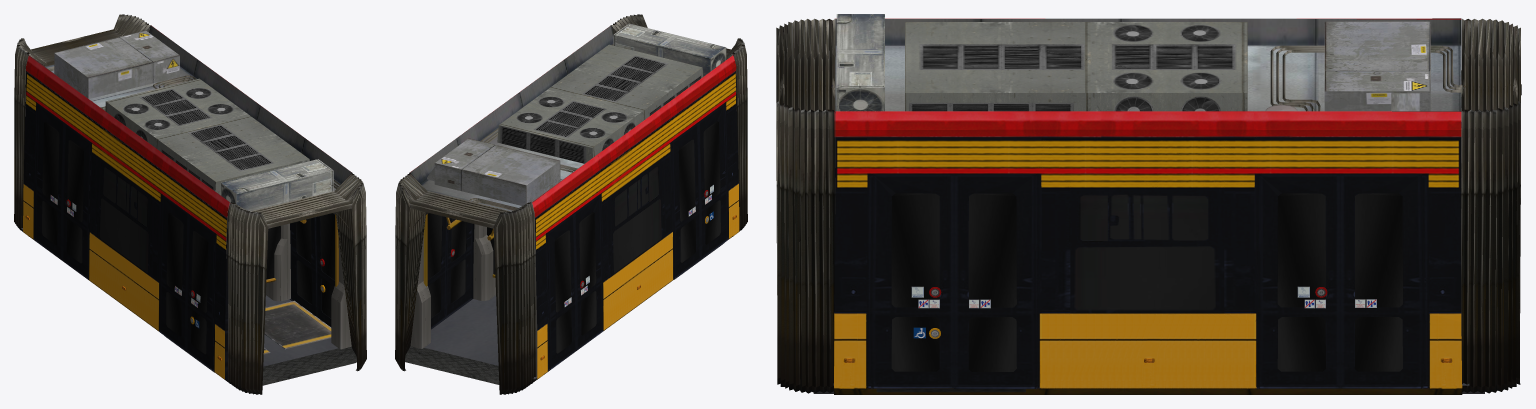
Rendered from jazz_m1.obj.
3 renders of one model, left to right at view 1: azimuth 30°, elevation 25°; view 2: azimuth 150°, elevation 25°; view 3: azimuth 270°, elevation 25°, orthographic. The views are drawn at different scales.
Parts seen in each view (by area): view 1: body, salon, d_rr, d_rl, okno, ds_rl, ds_rr, dl_lr, ds_ll, ds_lr, dl_ll, steklo; view 2: body, salon, d_rr, d_rl, okno, ds_rl, ds_rr, ds_lr, dl_ll, ds_ll, dl_lr; view 3: body, d_ll, d_lr, okno, ds_lr, ds_ll.
Boxes of the visible parts, x1=… form: body: x1=14, y1=14, x2=366, y2=394; salon: x1=21, y1=212, x2=356, y2=385; d_rr: x1=62, y1=123, x2=214, y2=370; d_rl: x1=35, y1=104, x2=188, y2=350; okno: x1=97, y1=157, x2=151, y2=275; ds_rl: x1=42, y1=122, x2=183, y2=336; ds_rr: x1=66, y1=140, x2=208, y2=354; dl_lr: x1=290, y1=217, x2=316, y2=316; ds_ll: x1=320, y1=213, x2=334, y2=318; ds_lr: x1=296, y1=218, x2=312, y2=304; dl_ll: x1=315, y1=216, x2=334, y2=327; steklo: x1=266, y1=226, x2=280, y2=279; body: x1=395, y1=14, x2=747, y2=394; salon: x1=405, y1=212, x2=537, y2=384; d_rr: x1=574, y1=103, x2=727, y2=350; d_rl: x1=548, y1=123, x2=700, y2=369; okno: x1=609, y1=158, x2=663, y2=276; ds_rl: x1=554, y1=139, x2=695, y2=353; ds_rr: x1=579, y1=121, x2=720, y2=335; ds_lr: x1=427, y1=213, x2=442, y2=317; dl_ll: x1=445, y1=218, x2=472, y2=316; ds_ll: x1=450, y1=218, x2=466, y2=303; dl_lr: x1=427, y1=216, x2=447, y2=327; body: x1=776, y1=14, x2=1520, y2=394; d_ll: x1=869, y1=174, x2=1340, y2=388; d_lr: x1=953, y1=174, x2=1425, y2=388; okno: x1=1070, y1=189, x2=1224, y2=312; ds_lr: x1=968, y1=193, x2=1402, y2=371; ds_ll: x1=891, y1=193, x2=1325, y2=371.
Bounding box in the file's own units: 2.54 × 3.4 × 7.86.
Materials: 64 (64 with a texture image).
